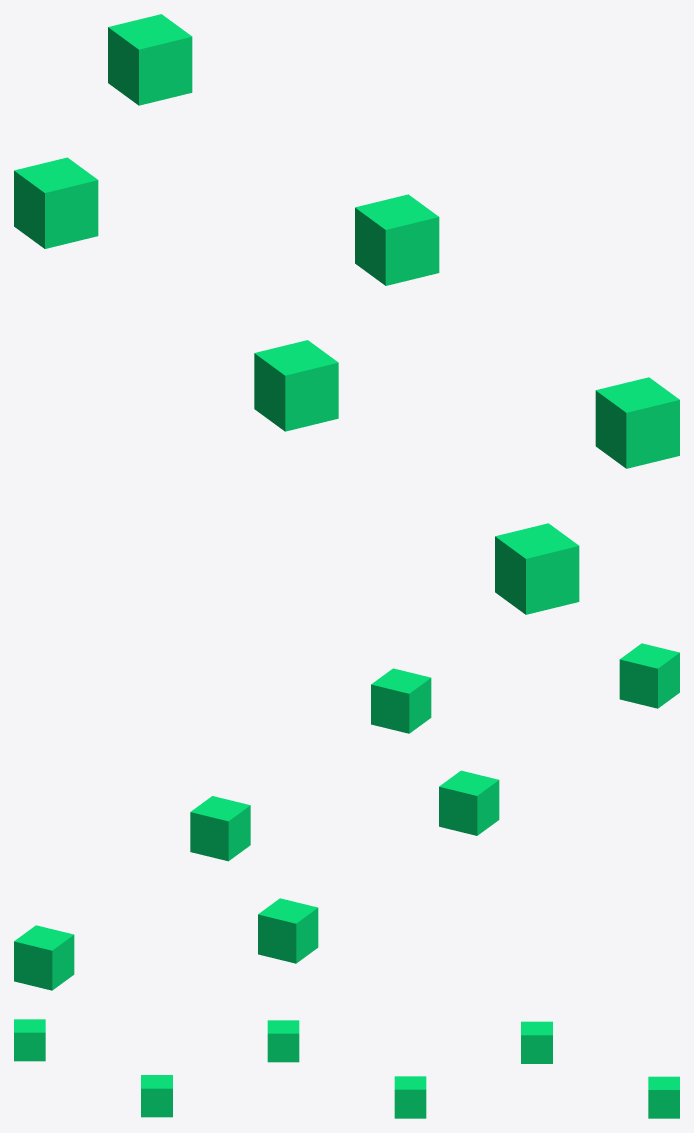
Rendered from meta.glb.
The picture shows the model from 3 angles, top to bottom: view 1: azimuth 30°, elevation 25°; view 2: azimuth 150°, elevation 25°; view 3: azimuth 270°, elevation 25°; orthographic projection. The views are drawn at different scales.
Parts seen in each view (by area): view 1: Meta.Boxe.004, Meta.Boxe.001, Meta.Boxe.005, Meta.Boxe.003, Meta.Boxe.002, Meta.Boxe.006; view 2: Meta.Boxe.005, Meta.Boxe.001, Meta.Boxe.002, Meta.Boxe.003, Meta.Boxe.004, Meta.Boxe.006; view 3: Meta.Boxe.003, Meta.Boxe.004, Meta.Boxe.001, Meta.Boxe.002, Meta.Boxe.005, Meta.Boxe.006.
Boxes of the visible parts, x1,y1,x2,y2 form: Meta.Boxe.004: (254,340,338,431); Meta.Boxe.001: (108,14,192,105); Meta.Boxe.005: (595,377,679,468); Meta.Boxe.003: (355,194,439,285); Meta.Boxe.002: (14,157,98,248); Meta.Boxe.006: (495,523,579,614); Meta.Boxe.005: (371,668,431,733); Meta.Boxe.001: (14,925,74,990); Meta.Boxe.002: (258,898,318,963); Meta.Boxe.003: (190,796,250,861); Meta.Boxe.004: (439,770,499,835); Meta.Boxe.006: (619,643,679,708); Meta.Boxe.003: (394,1076,426,1118); Meta.Boxe.004: (267,1020,299,1062); Meta.Boxe.001: (648,1076,679,1118); Meta.Boxe.002: (521,1021,552,1063); Meta.Boxe.005: (141,1075,172,1117); Meta.Boxe.006: (14,1019,45,1061).
Bounding box in the file's own units: 10.61 × 2.05 × 41.96.
